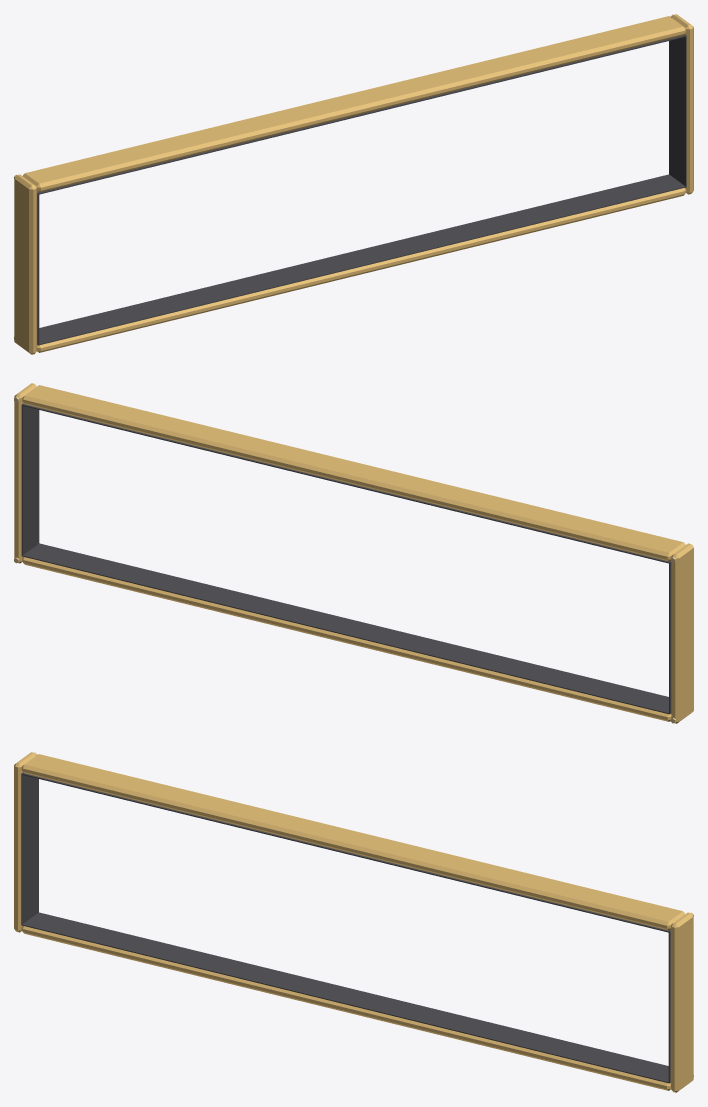
File: Bezel_4x1.fbx
3 renders of one model, top to bottom at view 1: azimuth 30°, elevation 25°; view 2: azimuth 150°, elevation 25°; view 3: azimuth 330°, elevation 25°, orthographic.
Visible parts, largest first — view 1: Bezel_4x1; view 2: Bezel_4x1; view 3: Bezel_4x1.
Part boxes in pixels (x1,y1,x2,y2): Bezel_4x1: [14, 14, 693, 354]; Bezel_4x1: [14, 383, 693, 723]; Bezel_4x1: [14, 752, 693, 1092].
Bounding box in the file's own units: 4.36 × 1.06 × 0.211.
